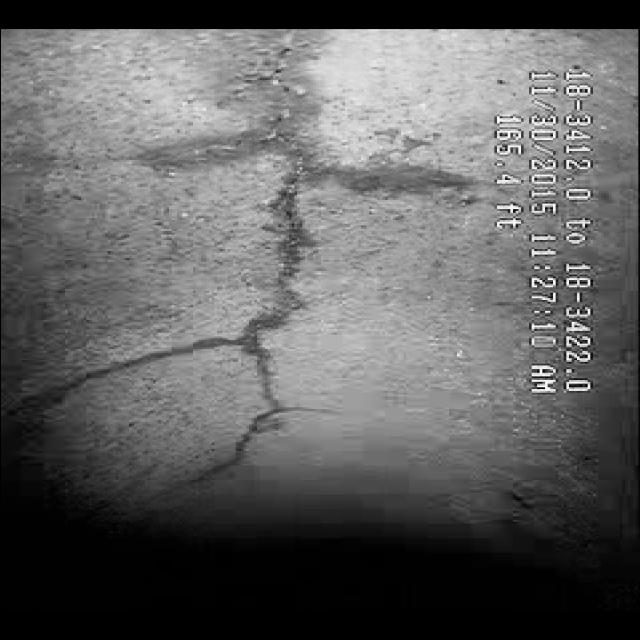Crack: (107, 51, 454, 447)
